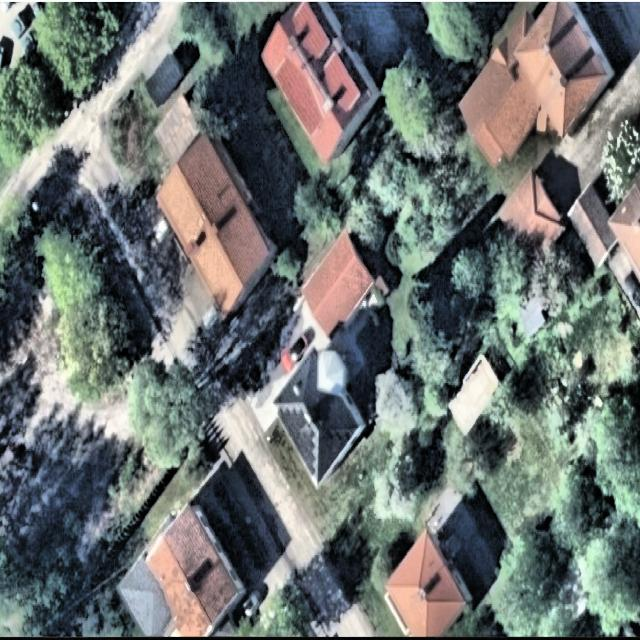roof_pv: (276, 402, 320, 478)
